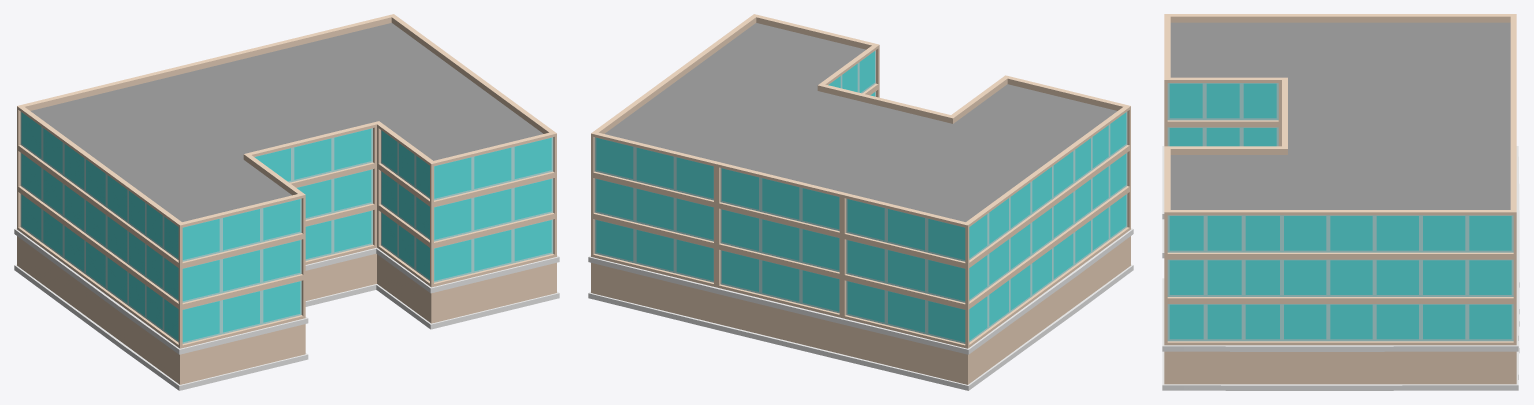
Rendered from SM_House_12_01.FBX.
The picture shows the model from 3 angles, left to right: view 1: azimuth 30°, elevation 25°; view 2: azimuth 150°, elevation 25°; view 3: azimuth 270°, elevation 25°; orthographic projection. The views are drawn at different scales.
Visible parts, largest first — view 1: SM_House_12_01; view 2: SM_House_12_01; view 3: SM_House_12_01.
Part boxes in pixels (bbox=[...]): SM_House_12_01: bbox=[14, 14, 559, 390]; SM_House_12_01: bbox=[588, 14, 1133, 390]; SM_House_12_01: bbox=[1162, 14, 1519, 390].
Size of the model in its own units: 12.15 by 5 by 9.12.
Materials: 1 (1 with a texture image).
